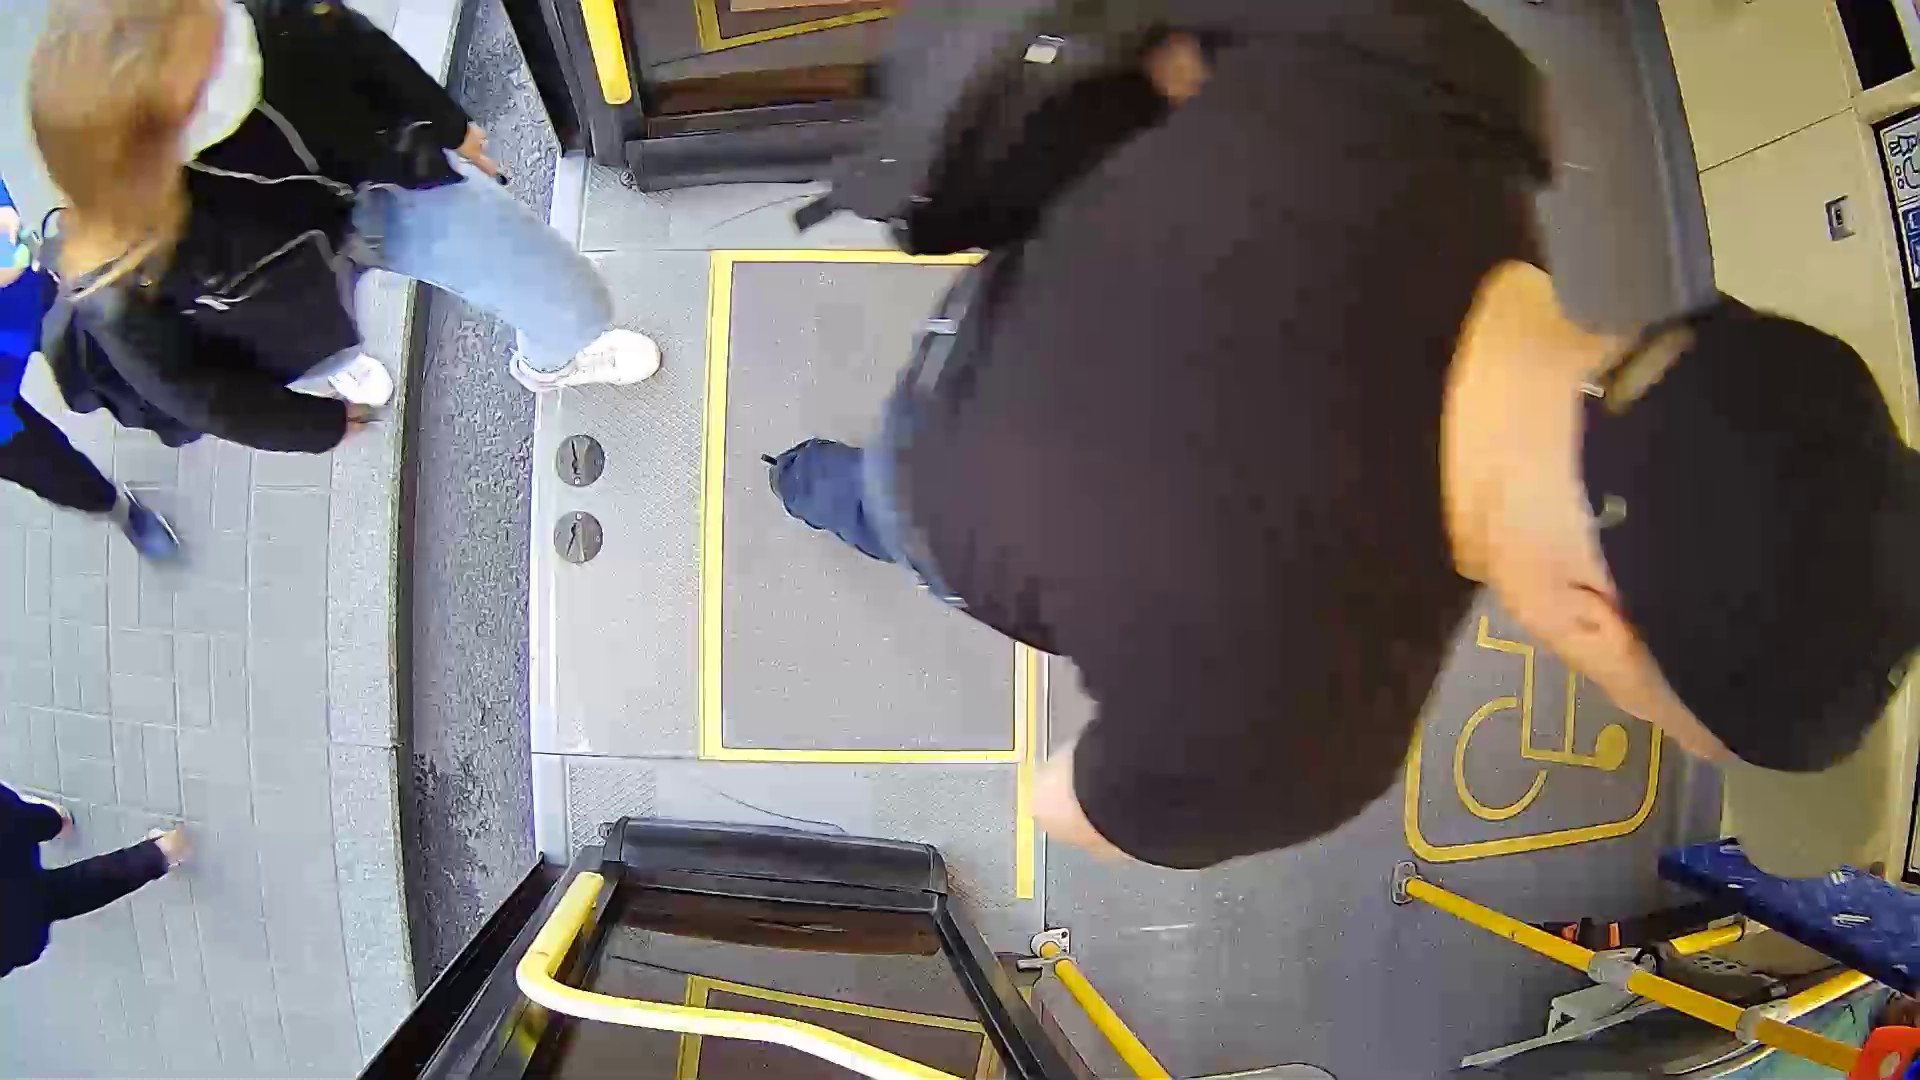person: (816, 8, 1915, 832), (21, 5, 693, 474)
